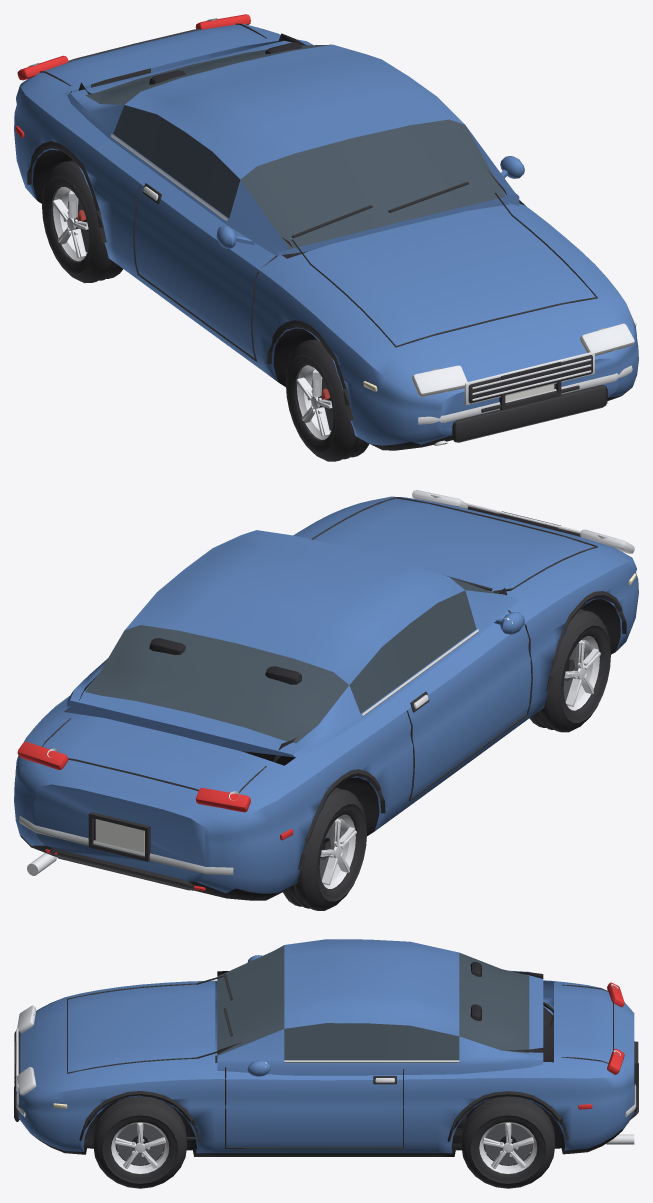
File: CarV2_Coupe.fbx
3 renders of one model, top to bottom at view 1: azimuth 30°, elevation 25°; view 2: azimuth 150°, elevation 25°; view 3: azimuth 270°, elevation 25°, orthographic. The views are drawn at different scales.
Visible parts, largest first — view 1: CarV2_Coupe; view 2: CarV2_Coupe; view 3: CarV2_Coupe.
Boxes of the visible parts, left/top/right/bottom form: CarV2_Coupe: left=14, top=14, right=638, bottom=461; CarV2_Coupe: left=14, top=490, right=638, bottom=910; CarV2_Coupe: left=14, top=939, right=638, bottom=1188.
Size of the model in its own units: 1.88 by 1.35 by 4.47.
